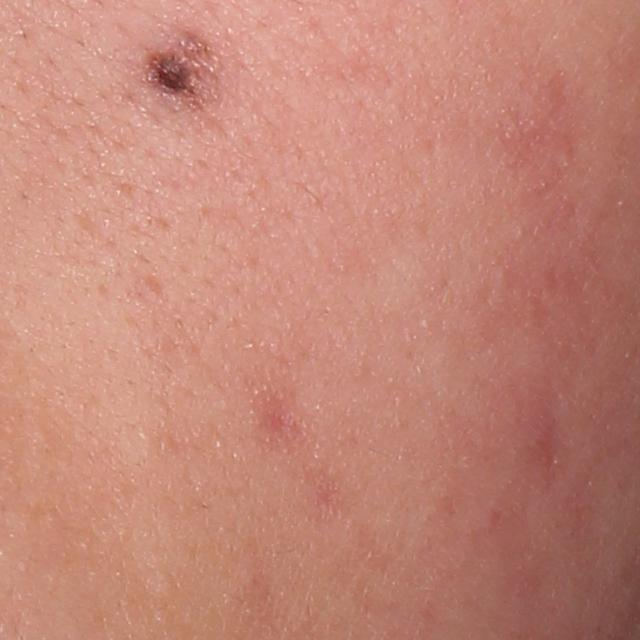nevus: (144, 52, 197, 102)
